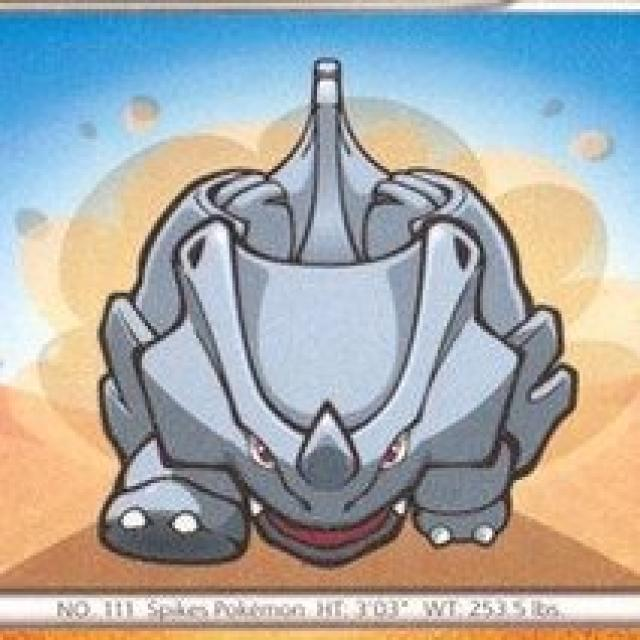Rhyhorn: (83, 54, 584, 564)
